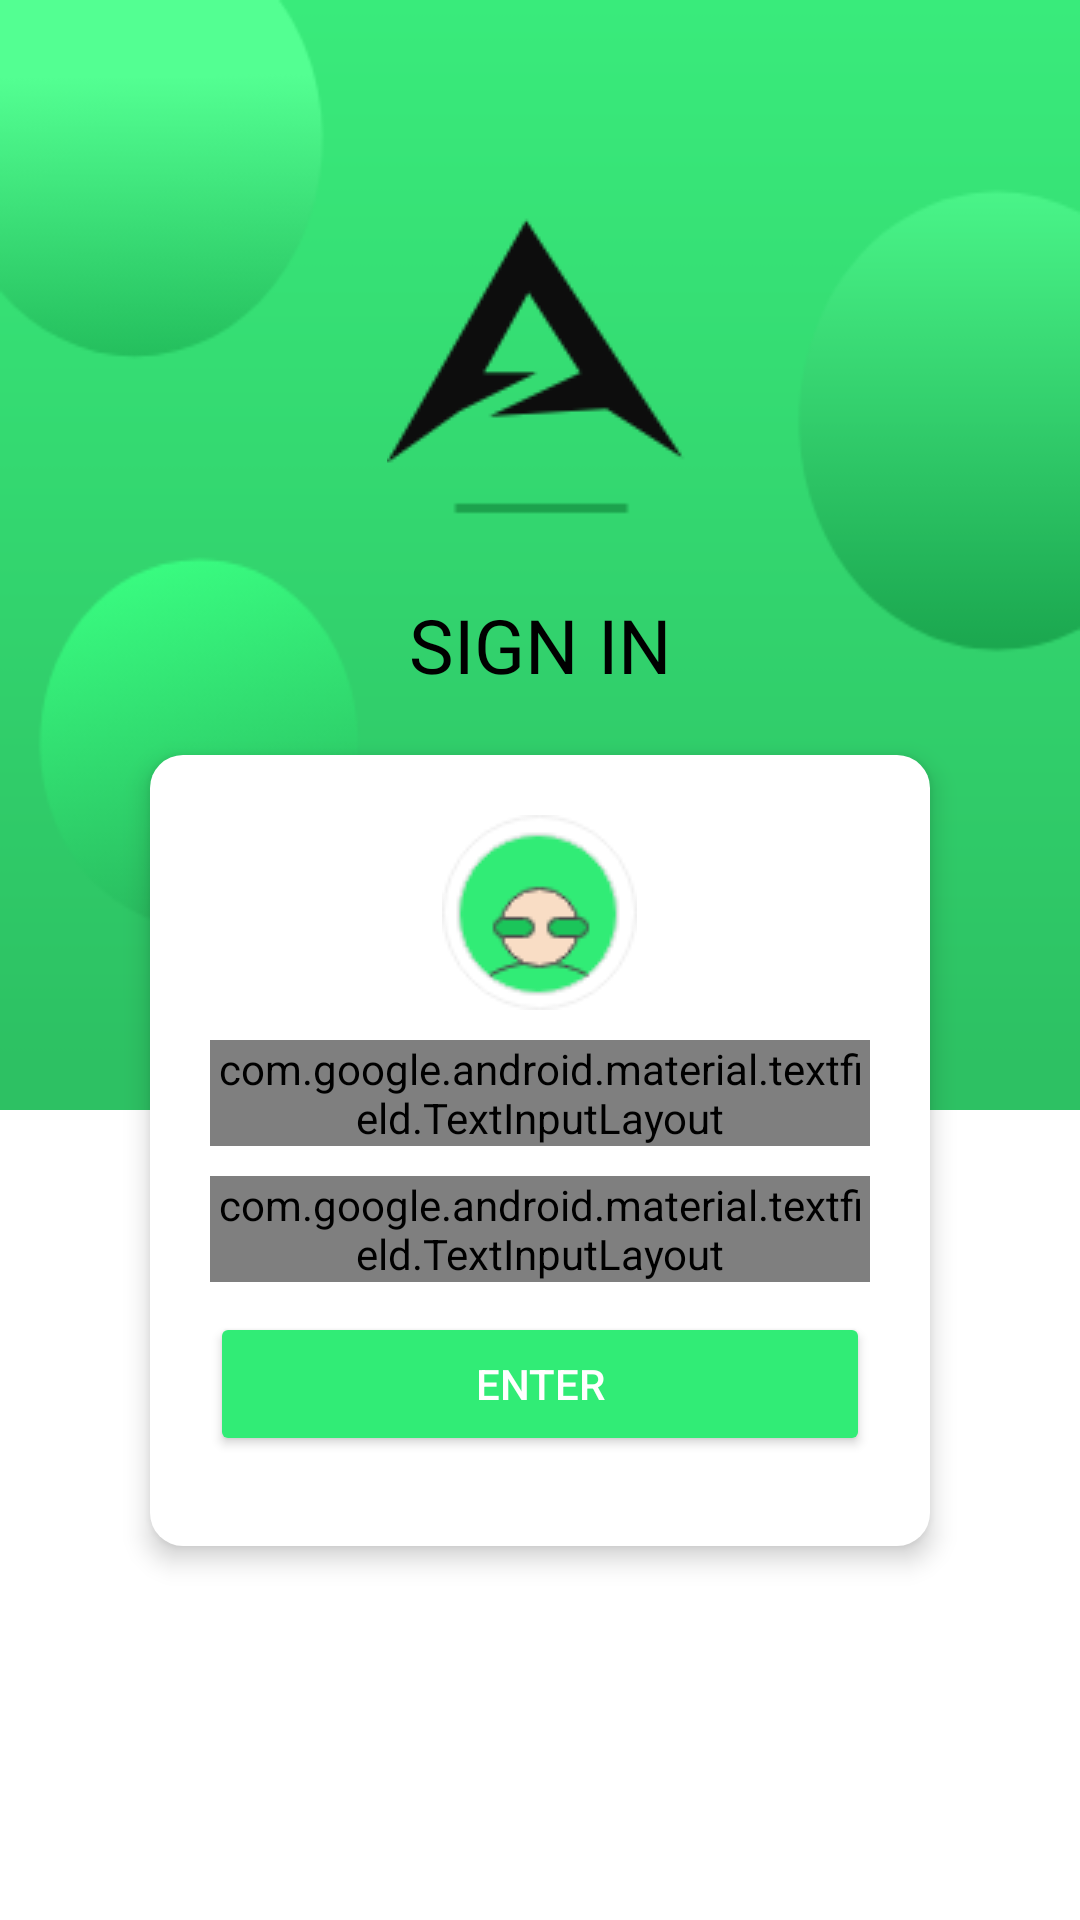

Screen size 1080px×1920px. Icon name, then its center in pixels as (x,y):
user: (538,914)
